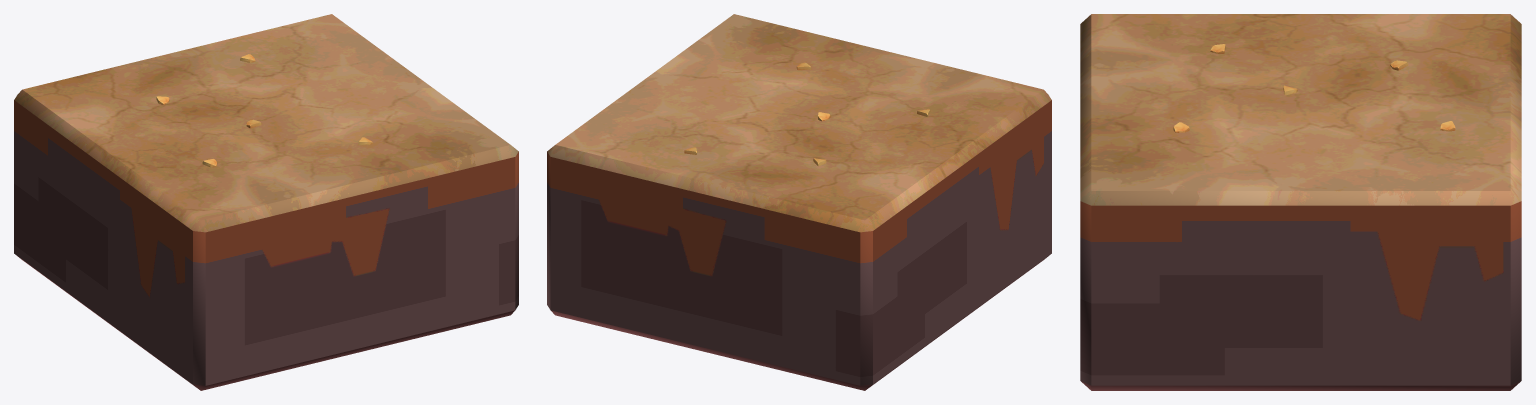
The model's file is tiledesert001.glb.
3 views of the same model, side by side, from view 1: azimuth 30°, elevation 25°; view 2: azimuth 150°, elevation 25°; view 3: azimuth 270°, elevation 25° (orthographic). The views are drawn at different scales.
Parts seen in each view (by area): view 1: tiledesert001.001; view 2: tiledesert001.001; view 3: tiledesert001.001.
Part boxes in pixels (x1,y1,x2,y2): tiledesert001.001: (14, 14, 518, 390); tiledesert001.001: (547, 14, 1051, 390); tiledesert001.001: (1080, 14, 1521, 390).
Bounding box in the file's own units: 1 × 0.5095 × 1.
Materials: 2 (2 with a texture image).
